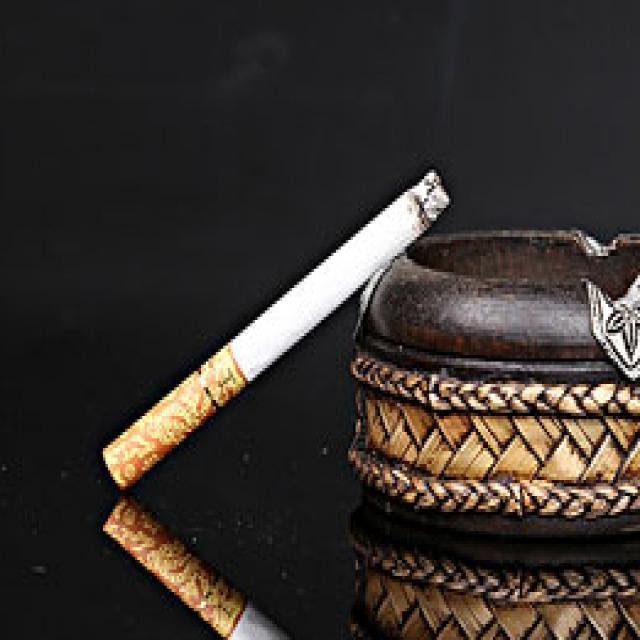smoking: (102, 169, 449, 485), (102, 493, 295, 640)
